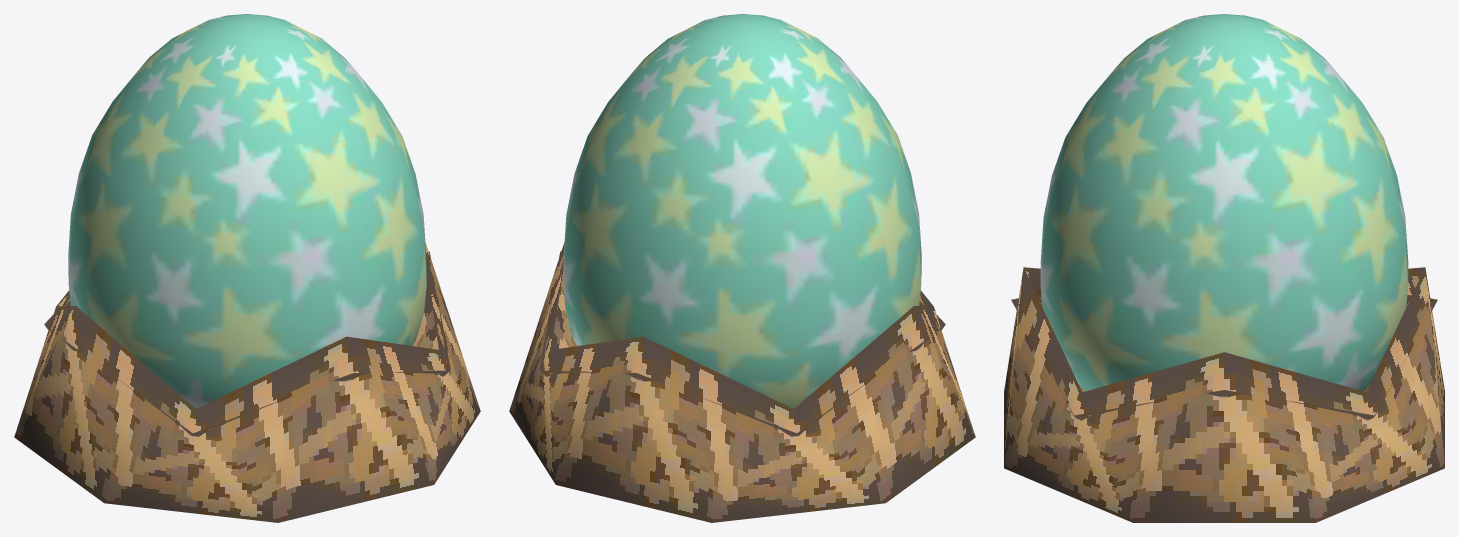
The model's file is int_egg_lamp.dae.
The picture shows the model from 3 angles, left to right: view 1: azimuth 30°, elevation 25°; view 2: azimuth 150°, elevation 25°; view 3: azimuth 270°, elevation 25°; orthographic projection.
Visible parts, largest first — view 1: int_egg_lamp; view 2: int_egg_lamp; view 3: int_egg_lamp.
Part boxes in pixels (<box>): int_egg_lamp: <box>14,14,480,522</box>; int_egg_lamp: <box>509,14,975,522</box>; int_egg_lamp: <box>1004,14,1444,522</box>.
Bounding box in the file's own units: 30.72 × 31.2 × 30.72.
Materials: 2 (2 with a texture image).
